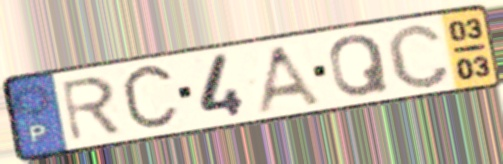4: (195, 49, 253, 122)
A: (252, 42, 325, 116)
C: (117, 59, 183, 137), (383, 21, 454, 91)
Q: (327, 32, 393, 100)
R: (57, 74, 125, 144)
